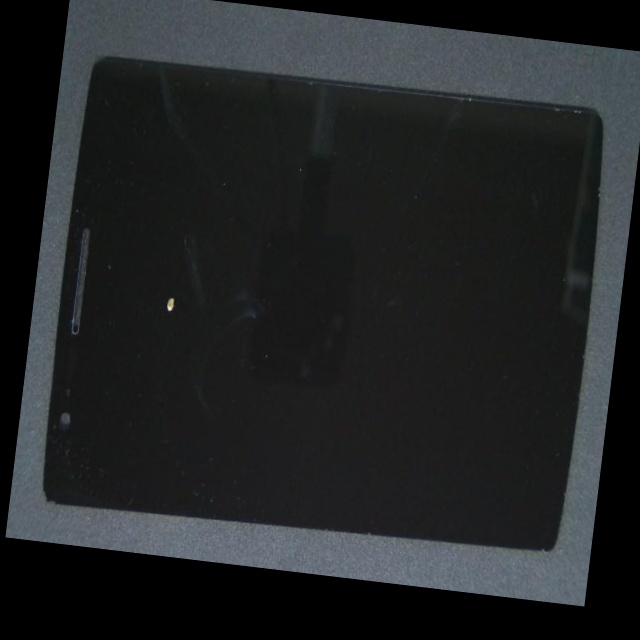stain: (47, 115, 244, 479)
